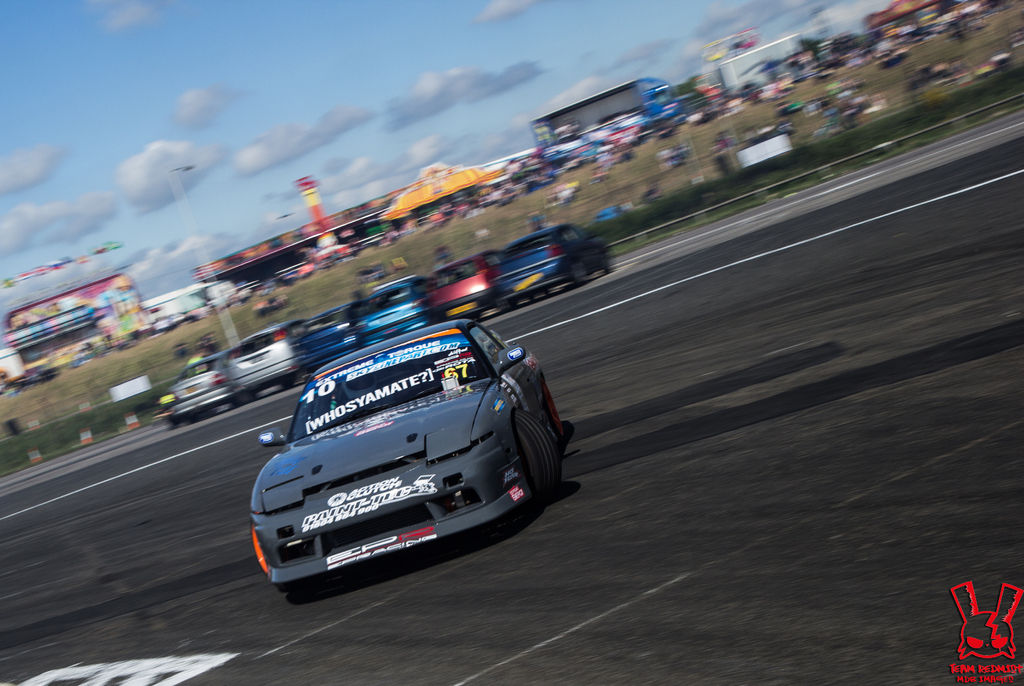Car: (252, 311, 567, 586), (492, 224, 616, 311), (224, 318, 306, 405), (352, 274, 431, 347), (161, 353, 237, 428), (423, 252, 504, 322), (293, 303, 357, 376)
